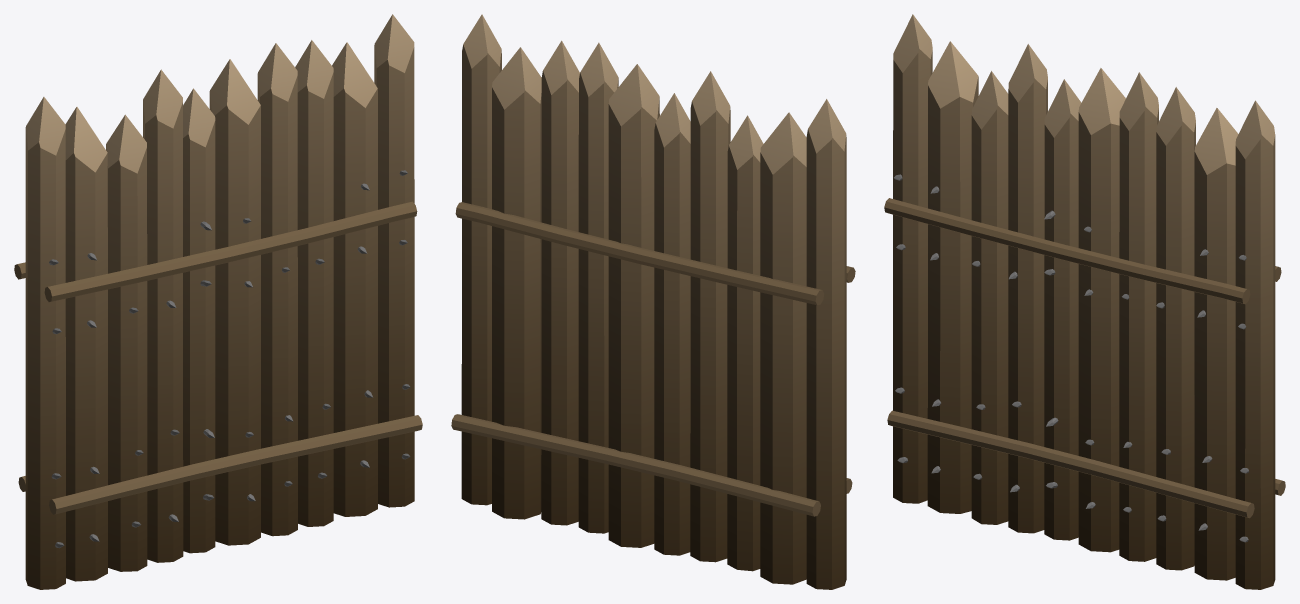
File: PallisadeWall_Planks_Right_CubeFBXASC046005.fbx
3 renders of one model, left to right at view 1: azimuth 30°, elevation 25°; view 2: azimuth 150°, elevation 25°; view 3: azimuth 330°, elevation 25°, orthographic.
Parts seen in each view (by area): view 1: PallisadeWall_Planks_Right_Cube.005; view 2: PallisadeWall_Planks_Right_Cube.005; view 3: PallisadeWall_Planks_Right_Cube.005.
Boxes of the visible parts, box(x1,y1,x2,y2) form: PallisadeWall_Planks_Right_Cube.005: box(14, 14, 422, 589); PallisadeWall_Planks_Right_Cube.005: box(451, 14, 855, 589); PallisadeWall_Planks_Right_Cube.005: box(884, 14, 1285, 589).
Bounding box in the file's own units: 120 × 146 × 22.61.
